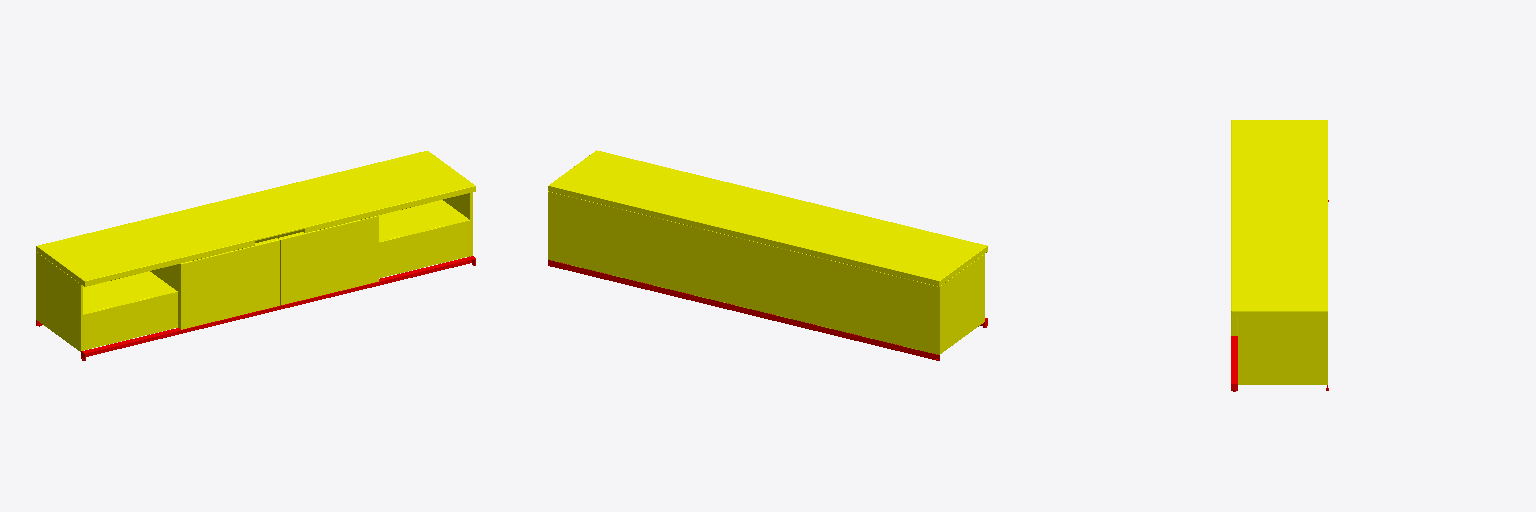
Rendered from accr1.obj.
3 renders of one model, left to right at view 1: azimuth 30°, elevation 25°; view 2: azimuth 150°, elevation 25°; view 3: azimuth 270°, elevation 25°, orthographic.
Visible parts, largest first — view 1: wood, Metal; view 2: wood, Metal; view 3: wood.
Part boxes in pixels (x1,y1,x2,y2): wood: (36, 151, 475, 351); Metal: (36, 256, 475, 360); wood: (548, 150, 987, 354); Metal: (548, 260, 987, 360); wood: (1231, 120, 1327, 384).
Size of the model in its own units: 2.81 by 0.55 by 0.6037.